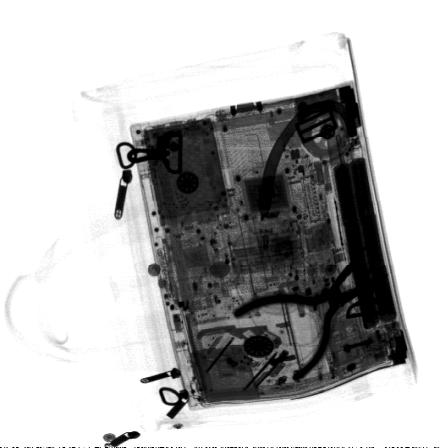Pliers: (231, 244, 387, 386)
